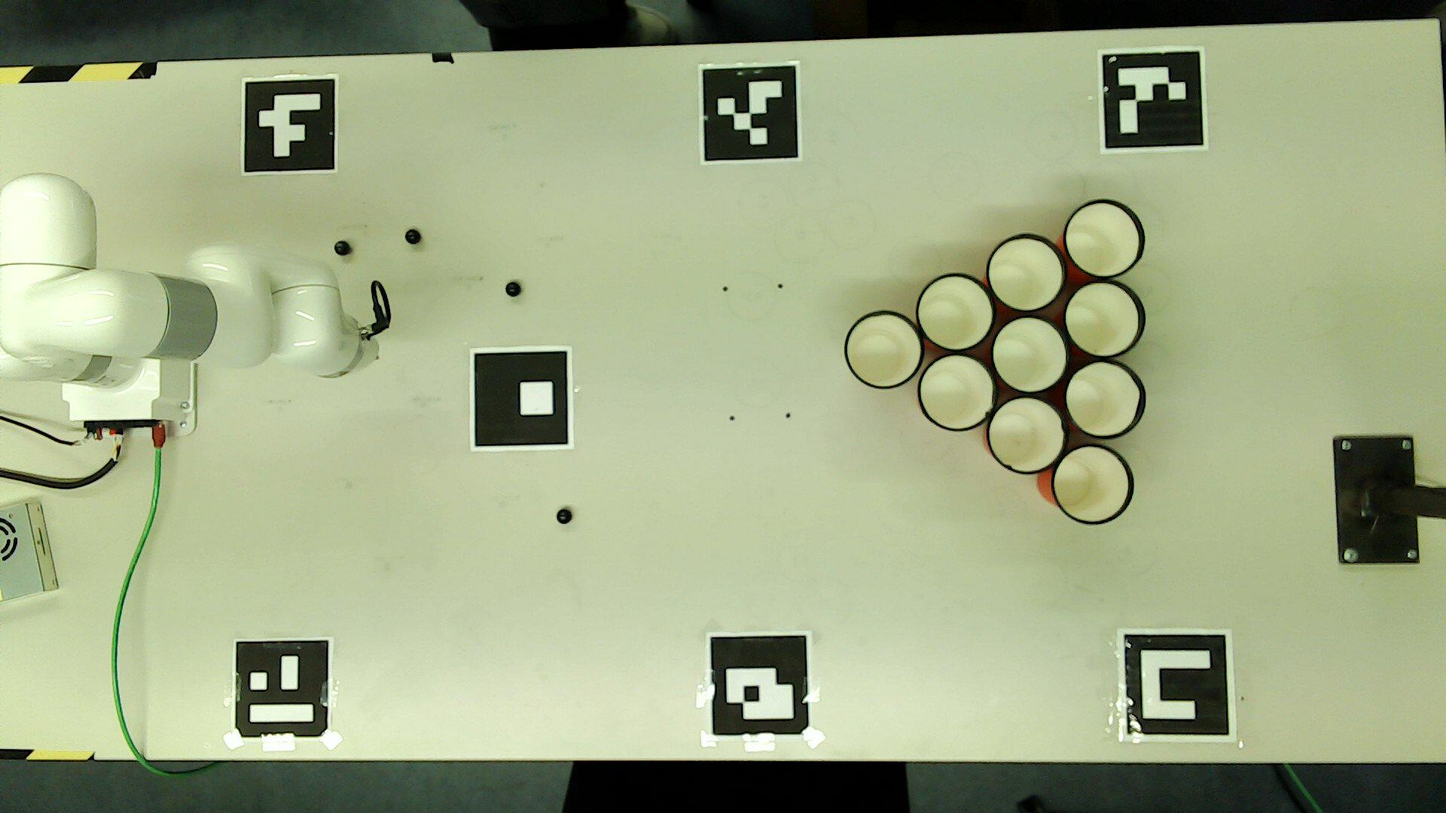ball: (336, 242, 350, 256), (507, 283, 520, 296), (558, 511, 570, 523), (407, 231, 419, 242)
cup: (1054, 445, 1131, 522), (1065, 361, 1143, 437), (989, 397, 1066, 473), (988, 235, 1064, 311), (1067, 280, 1142, 356), (992, 317, 1067, 393), (918, 275, 993, 351), (847, 311, 921, 387), (1067, 202, 1141, 277), (921, 355, 994, 429)
